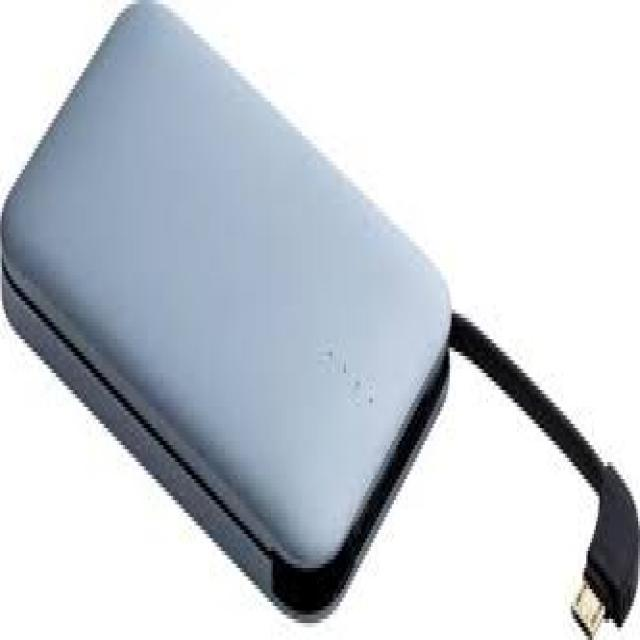battery: (0, 0, 451, 624)
